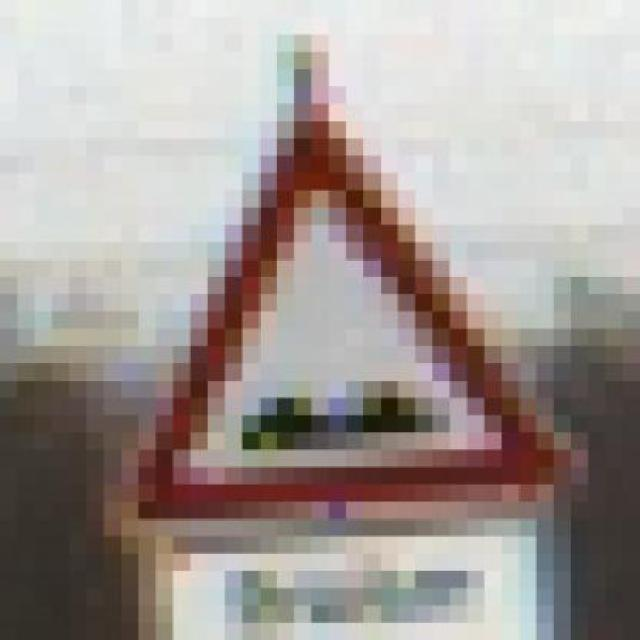Uneven Road: (104, 104, 588, 519)
